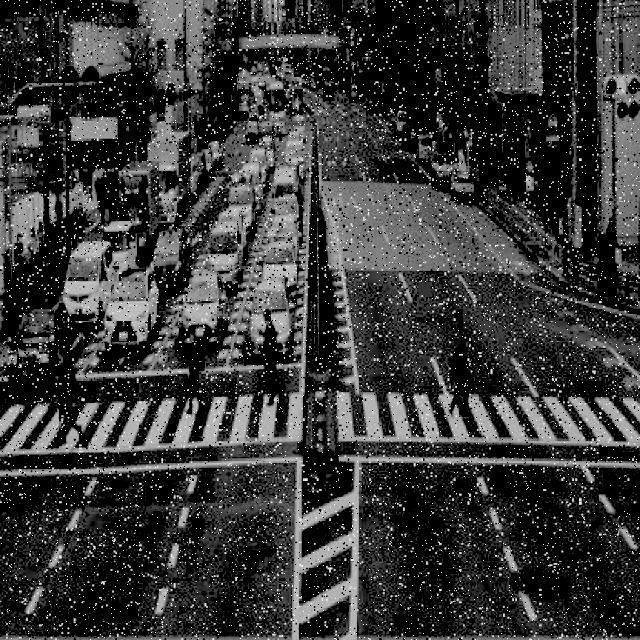Pedestrian crosswalk: (2, 386, 640, 475)
